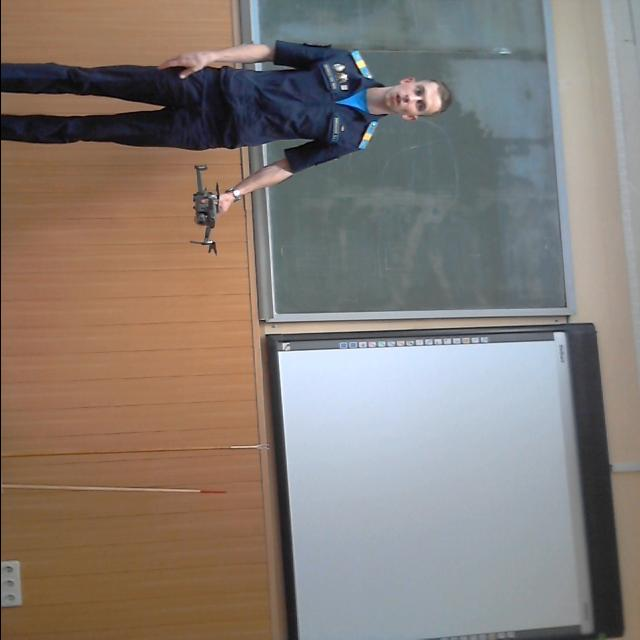drone: (179, 154, 233, 255)
